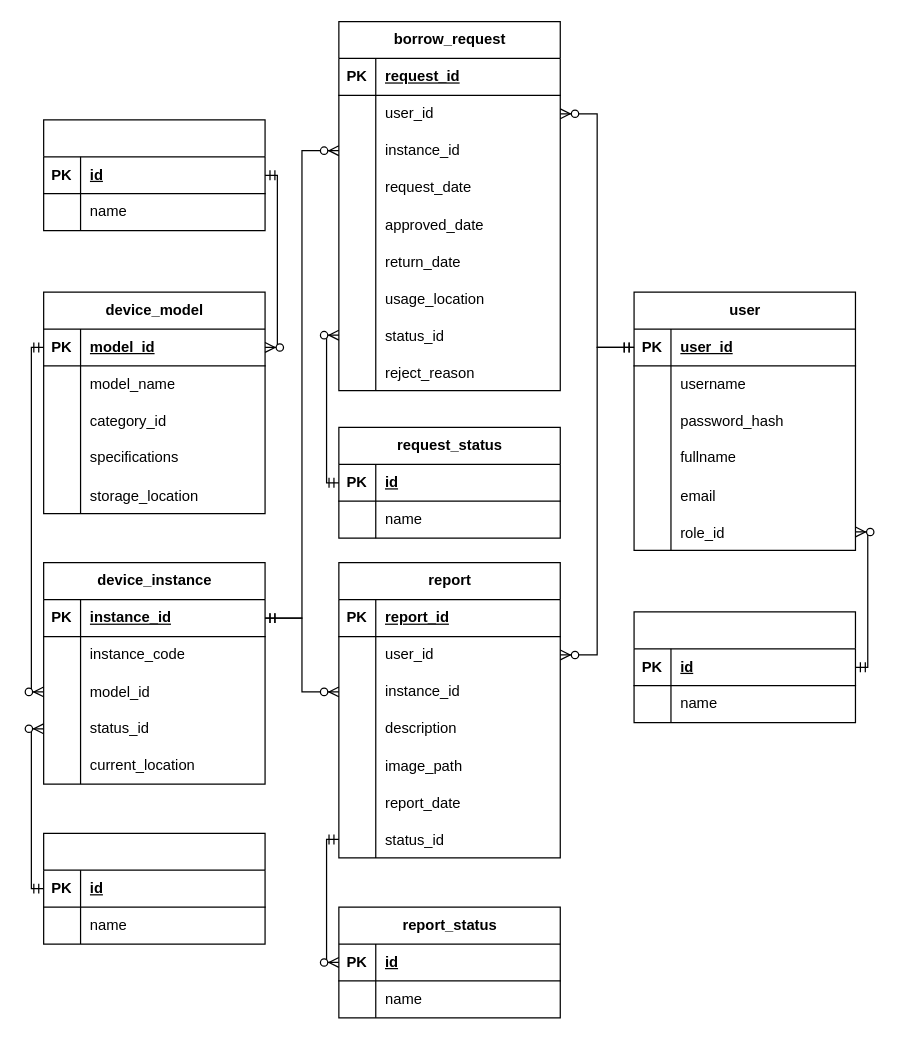
Image size: 900x1039. Some labels were removed from this diagram. The box of each missing label's shape, as (x1, y1, x2, y2) in pixels:
device_category: (42, 119, 265, 231)
instance_status: (42, 832, 265, 944)
user_role: (633, 611, 855, 723)
